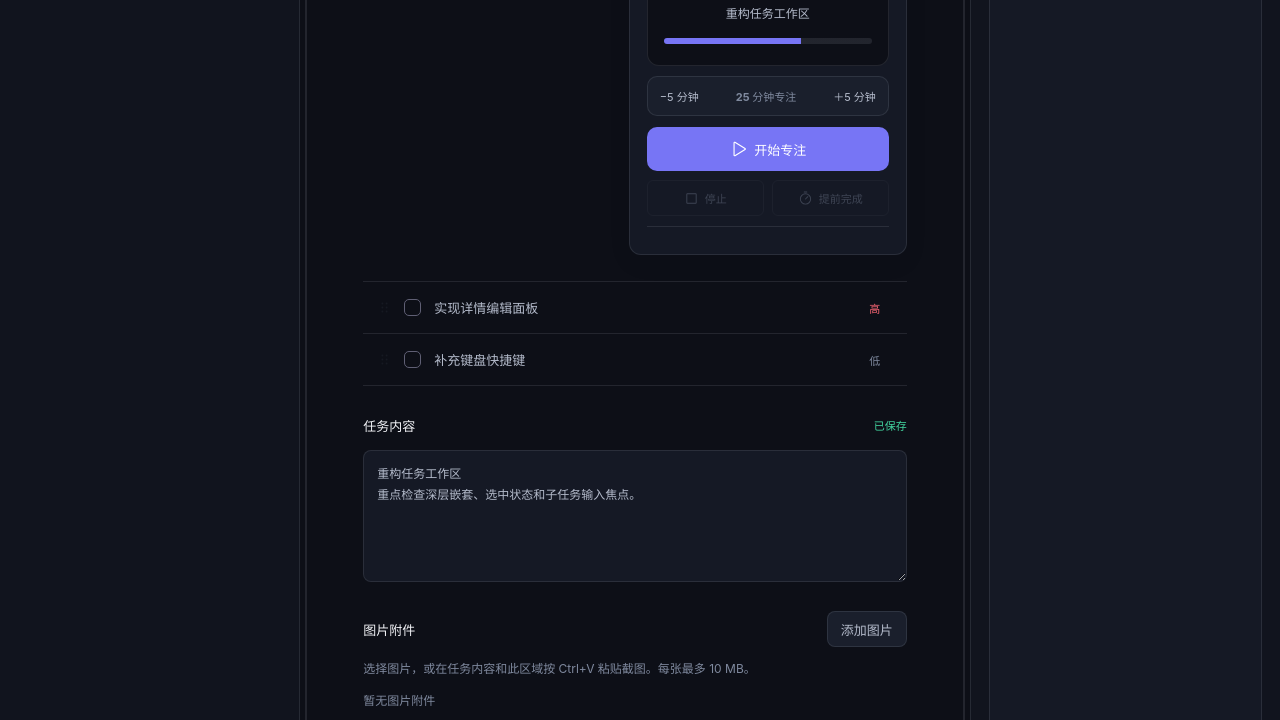
Test: 独立业务页面 › 直属子任务整行可以右击切换优先级
The image size is (1280, 720).
(page scrolled)
Right-click the list item with class "subtask-row" showing "补充键盘快捷键 低" at (635, 360), box [363,334,907,386]
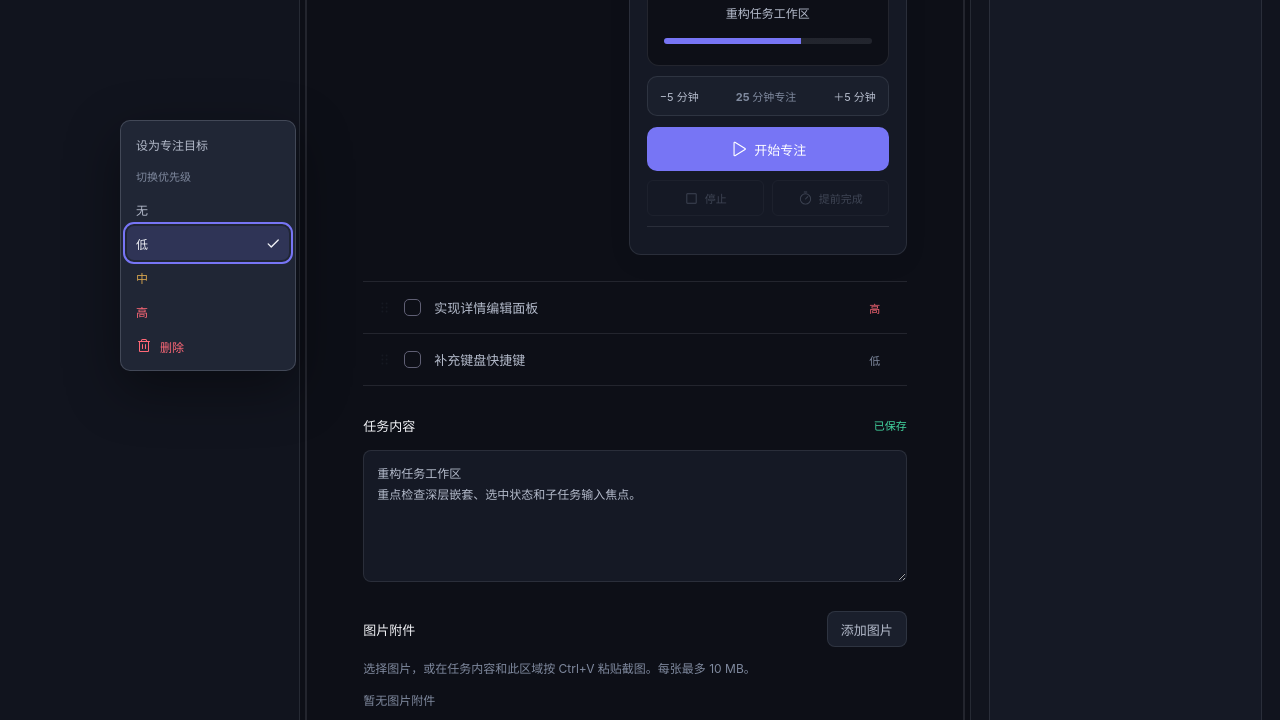
Click the menu item named "切换为无优先级". click: (208, 209)
box: [127,192,289,226]
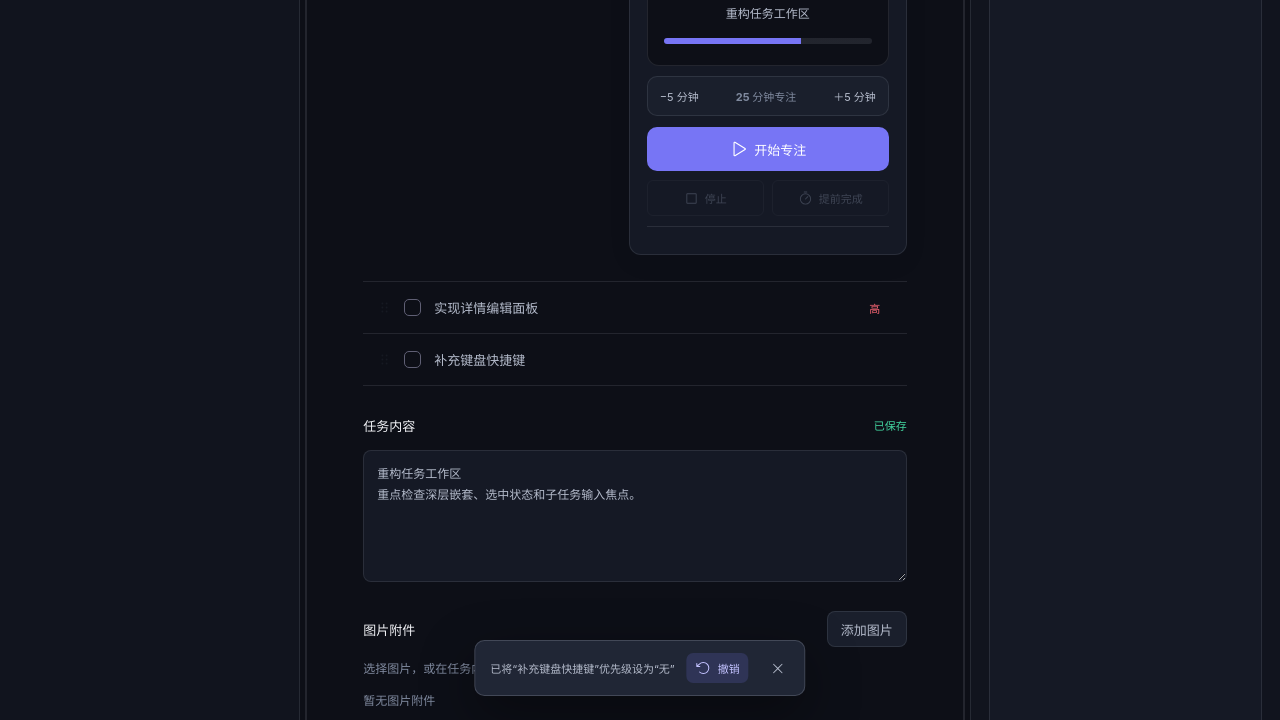
expect the text "低" is gone: met
